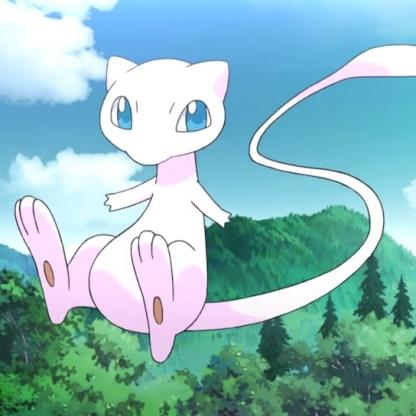Mew: (1, 25, 416, 352)
